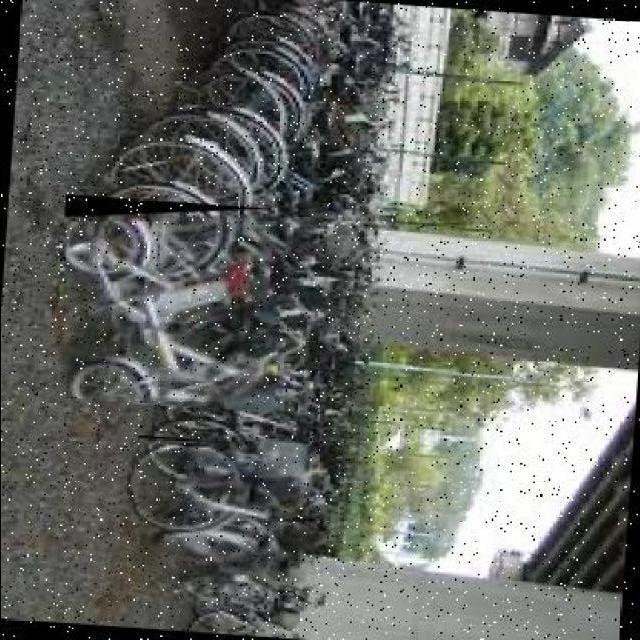bicycle: (50, 194, 286, 412), (126, 435, 322, 592)
